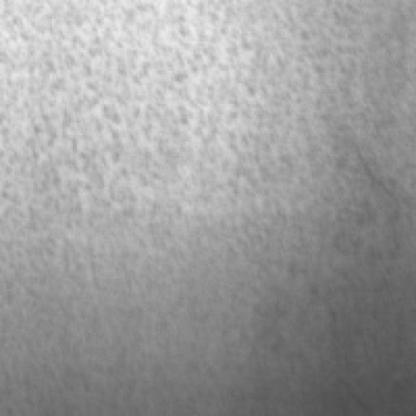pitted_surface: (0, 0, 407, 378)
